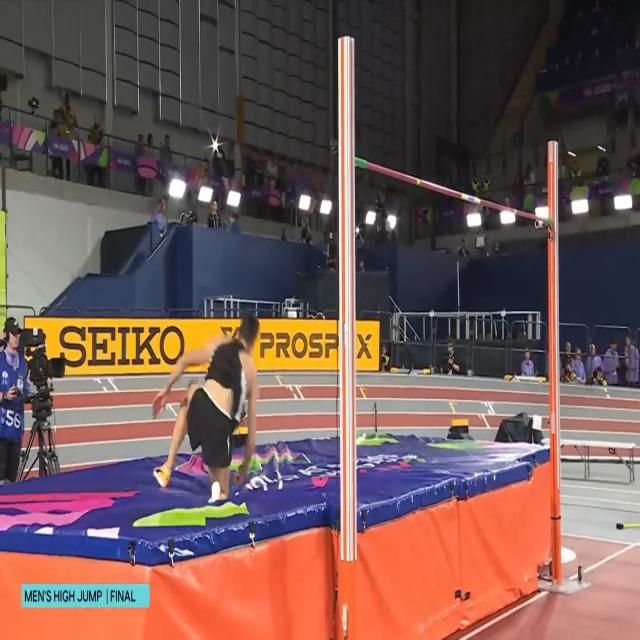land: (152, 315, 258, 502)
